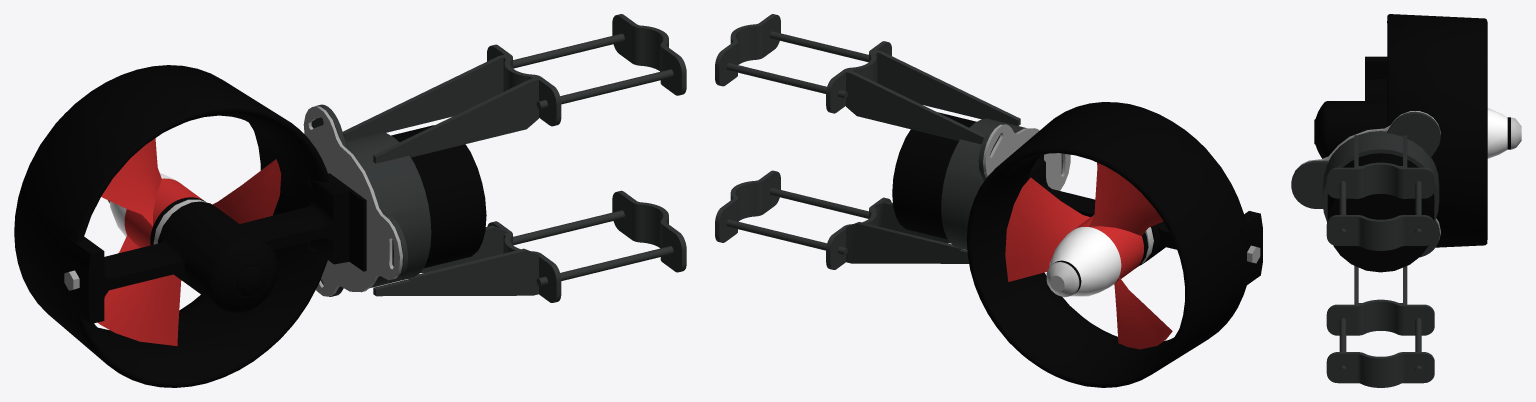
The model's file is horizontal_thruster.dae.
3 views of the same model, side by side, from view 1: azimuth 30°, elevation 25°; view 2: azimuth 150°, elevation 25°; view 3: azimuth 270°, elevation 25° (orthographic). The views are drawn at different scales.
Parts seen in each view (by area): view 1: horizontal_duct, horizontal_duct_support, propeller; view 2: horizontal_duct, horizontal_duct_support, propeller; view 3: horizontal_duct, horizontal_duct_support, propeller.
Part boxes in pixels (x1,y1,x2,y2): horizontal_duct: (14,65,486,387); horizontal_duct_support: (311,14,686,302); propeller: (97,138,281,345); horizontal_duct: (892,102,1262,387); horizontal_duct_support: (715,14,1062,269); propeller: (1005,162,1172,349); horizontal_duct: (1295,14,1487,272); horizontal_duct_support: (1291,111,1440,387); propeller: (1487,108,1521,158).
Bounding box in the file's own units: 0.4911 × 0.2131 × 0.2183.
Materials: 3 (2 with a texture image).
